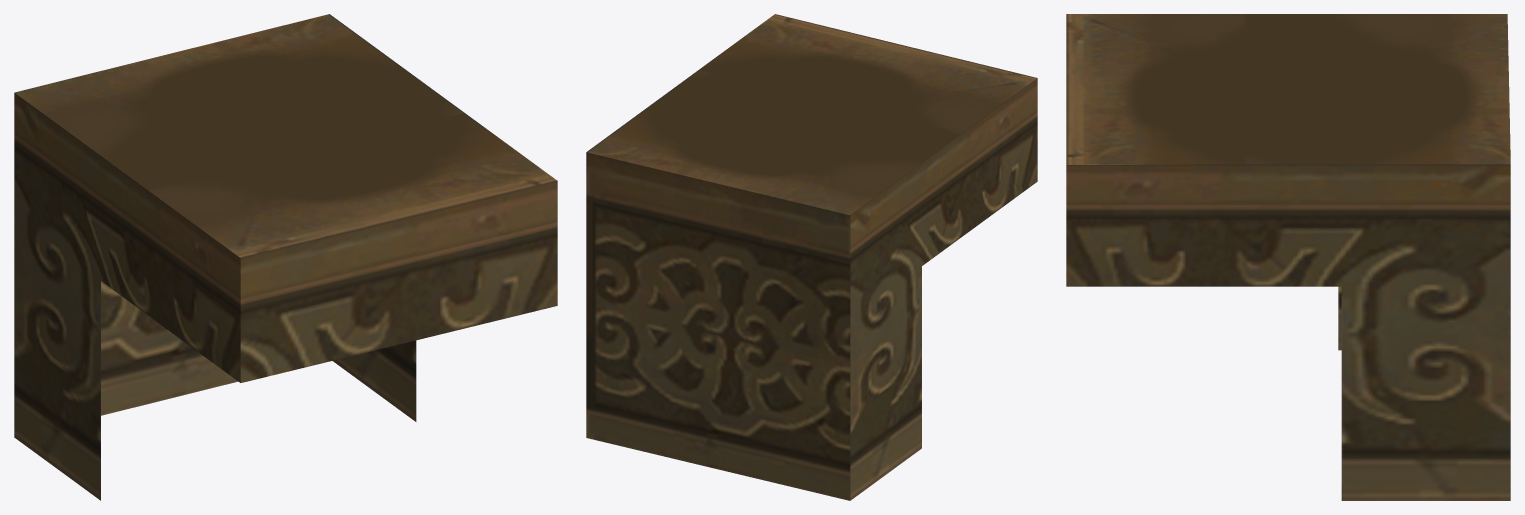
Rendered from SN_bfzt01_qiangbi_zhuziDi.FBX.
3 renders of one model, left to right at view 1: azimuth 30°, elevation 25°; view 2: azimuth 150°, elevation 25°; view 3: azimuth 270°, elevation 25°, orthographic. The views are drawn at different scales.
Visible parts, largest first — view 1: SN_bfzt01_qiangbi_zhuziDi; view 2: SN_bfzt01_qiangbi_zhuziDi; view 3: SN_bfzt01_qiangbi_zhuziDi.
Part boxes in pixels (x1=…): SN_bfzt01_qiangbi_zhuziDi: x1=14, y1=14, x2=557, y2=500; SN_bfzt01_qiangbi_zhuziDi: x1=586, y1=14, x2=1037, y2=500; SN_bfzt01_qiangbi_zhuziDi: x1=1066, y1=14, x2=1510, y2=500.
Bounding box in the file's own units: 418 × 520 × 434.
